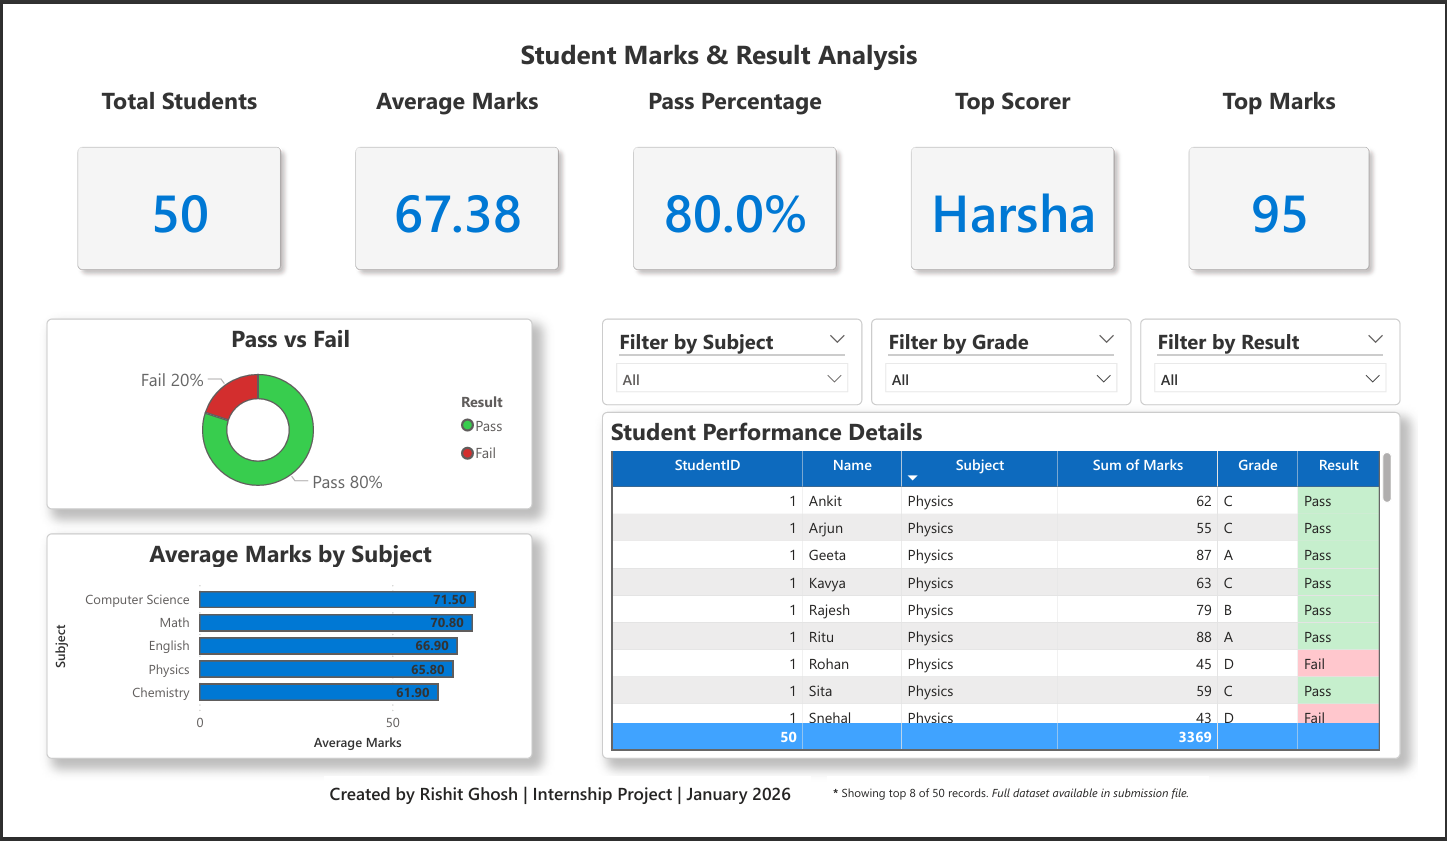

What the dashboard file says about the page in this screenshot:
{"tool":"powerbi","page":{"name":"Marks & Result Analysis","canvas":[1280,720],"ordinal":0},"visuals":[{"type":"cardVisual","title":"Total Students","fields":{"Data":["Sheet1.StudentID"]},"box":[16,50,245,200],"z":0},{"type":"cardVisual","title":"Average Marks","fields":{"Data":["Sheet1.Marks"]},"box":[272,50,245,200],"z":1000},{"type":"cardVisual","title":"Pass Percentage","fields":{"Data":["Sheet1.Pass Percentage"]},"box":[528,50,245,200],"z":2000},{"type":"clusteredBarChart","title":"Average Marks by Subject","fields":{"Category":["Sheet1.Subject"],"Y":["Sheet1.Marks"]},"box":[16,464,448,208],"z":3000},{"type":"donutChart","title":"Pass vs Fail","fields":{"Category":["Sheet1.Result"],"Y":["Sheet1.StudentID"]},"box":[16,266,448,176],"z":4000},{"type":"tableEx","title":"Student Performance Details","fields":{"Values":["Sheet1.StudentID","Sheet1.Name","Sheet1.Subject","Sheet1.Marks","Sheet1.Grade","Sheet1.Result"]},"box":[528,352,736,320],"z":5000},{"type":"slicer","fields":{"Values":["Sheet1.Subject"]},"box":[528,266.2,240,80],"z":6000},{"type":"slicer","fields":{"Values":["Sheet1.Grade"]},"box":[776,266.2,240,80],"z":7000},{"type":"slicer","fields":{"Values":["Sheet1.Result"]},"box":[1024,266.2,240,80],"z":8000},{"type":"textbox","box":[736,688,352,32],"z":9000},{"type":"cardVisual","title":"Top Marks","fields":{"Data":["Sheet1.Top Marks"]},"box":[1040,50,224,200],"z":10000},{"type":"cardVisual","title":"Top Scorer","fields":{"Data":["Sheet1.Top Scorer"]},"box":[784,50,245,200],"z":11000},{"type":"textbox","box":[448,0,384,48],"z":12000},{"type":"textbox","box":[272,688,448,32],"z":13000}]}

Visuals, with their boxes on the page's 1280x720 design canvas (x1, y1, x2, y2). These are canvas units, not pixel positions in the 1447x841 screenshot, which may show the page scaled, cropped or inside an application window:
"Total Students" cardVisual: region(16, 50, 261, 250)
"Average Marks" cardVisual: region(272, 50, 517, 250)
"Pass Percentage" cardVisual: region(528, 50, 773, 250)
"Average Marks by Subject" clusteredBarChart: region(16, 464, 464, 672)
"Pass vs Fail" donutChart: region(16, 266, 464, 442)
"Student Performance Details" tableEx: region(528, 352, 1264, 672)
slicer - Sheet1.Subject: region(528, 266, 768, 346)
slicer - Sheet1.Grade: region(776, 266, 1016, 346)
slicer - Sheet1.Result: region(1024, 266, 1264, 346)
textbox: region(736, 688, 1088, 720)
"Top Marks" cardVisual: region(1040, 50, 1264, 250)
"Top Scorer" cardVisual: region(784, 50, 1029, 250)
textbox: region(448, 0, 832, 48)
textbox: region(272, 688, 720, 720)
